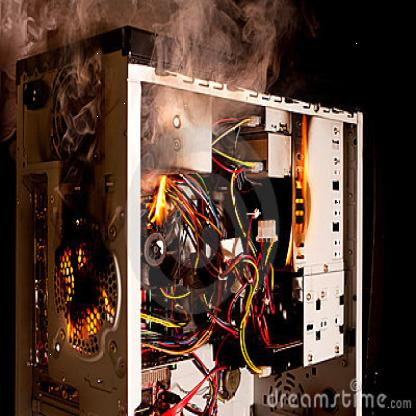fire: (54, 238, 119, 347), (144, 173, 176, 232)
smoke: (143, 5, 290, 166), (0, 0, 111, 145)
